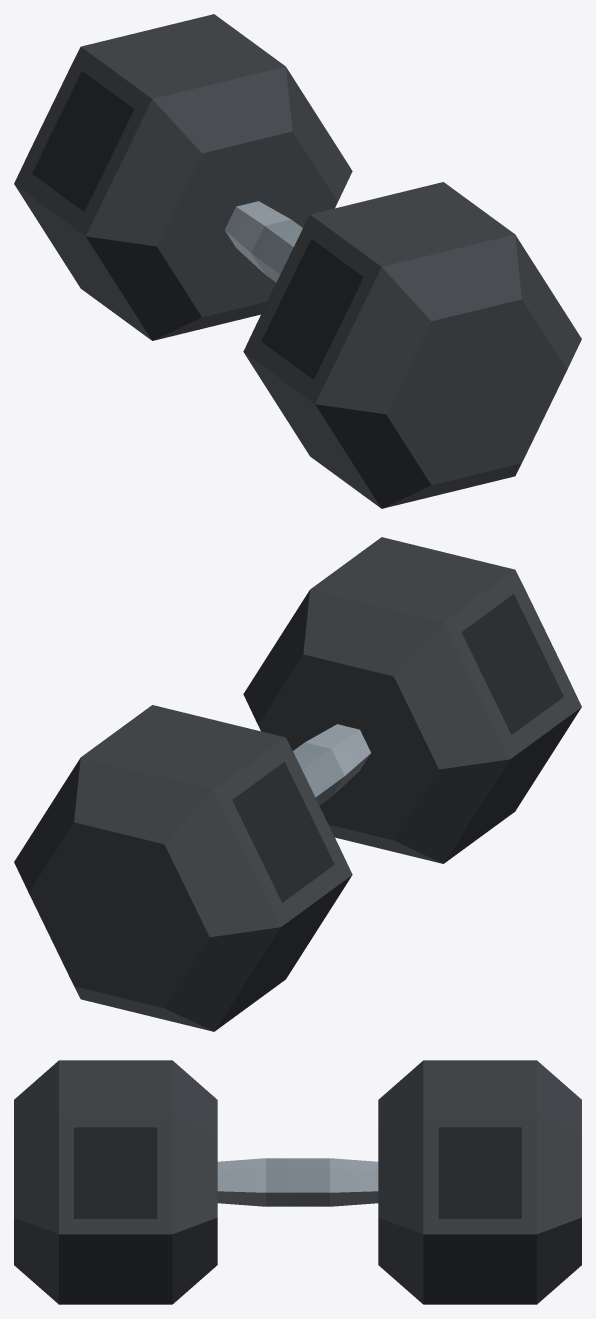
File: SM_Prop_Gym_Dumbbell_02.obj
3 views of the same model, one above another, from view 1: azimuth 30°, elevation 25°; view 2: azimuth 150°, elevation 25°; view 3: azimuth 270°, elevation 25° (orthographic). The views are drawn at different scales.
Parts seen in each view (by area): view 1: SM_Prop_Gym_Dumbbell_02_0; view 2: SM_Prop_Gym_Dumbbell_02_0; view 3: SM_Prop_Gym_Dumbbell_02_0.
Boxes of the visible parts, x1,y1,x2,y2 form: SM_Prop_Gym_Dumbbell_02_0: [14, 14, 581, 508]; SM_Prop_Gym_Dumbbell_02_0: [14, 537, 581, 1031]; SM_Prop_Gym_Dumbbell_02_0: [14, 1060, 581, 1304].
Bounding box in the file's own units: 0.2541 × 0.22 × 0.5891.
Materials: 1 (1 with a texture image).
